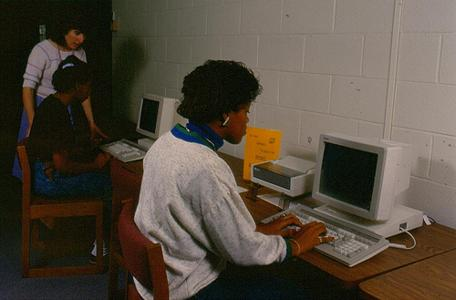person: (132, 58, 336, 299)
